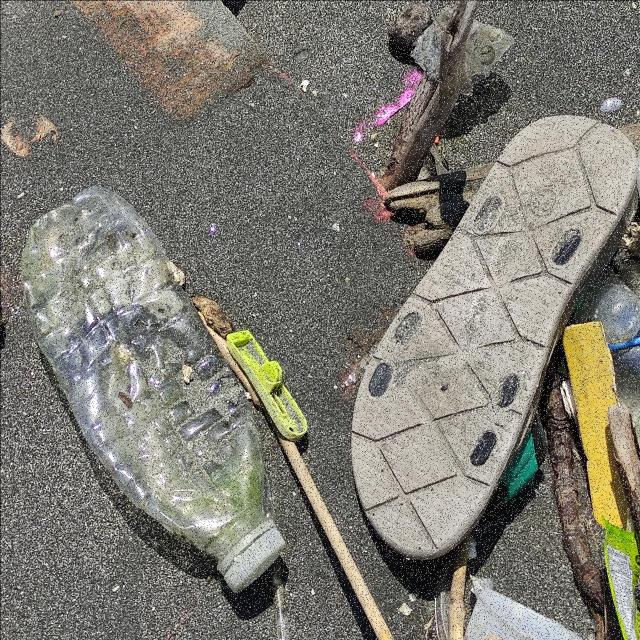plastic_waste: (16, 189, 285, 609)
rubber_waste: (347, 112, 640, 568)
